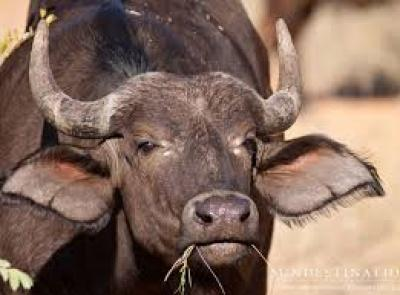buffalo: (0, 1, 383, 294)
